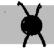not correct: (16, 1, 48, 51)
